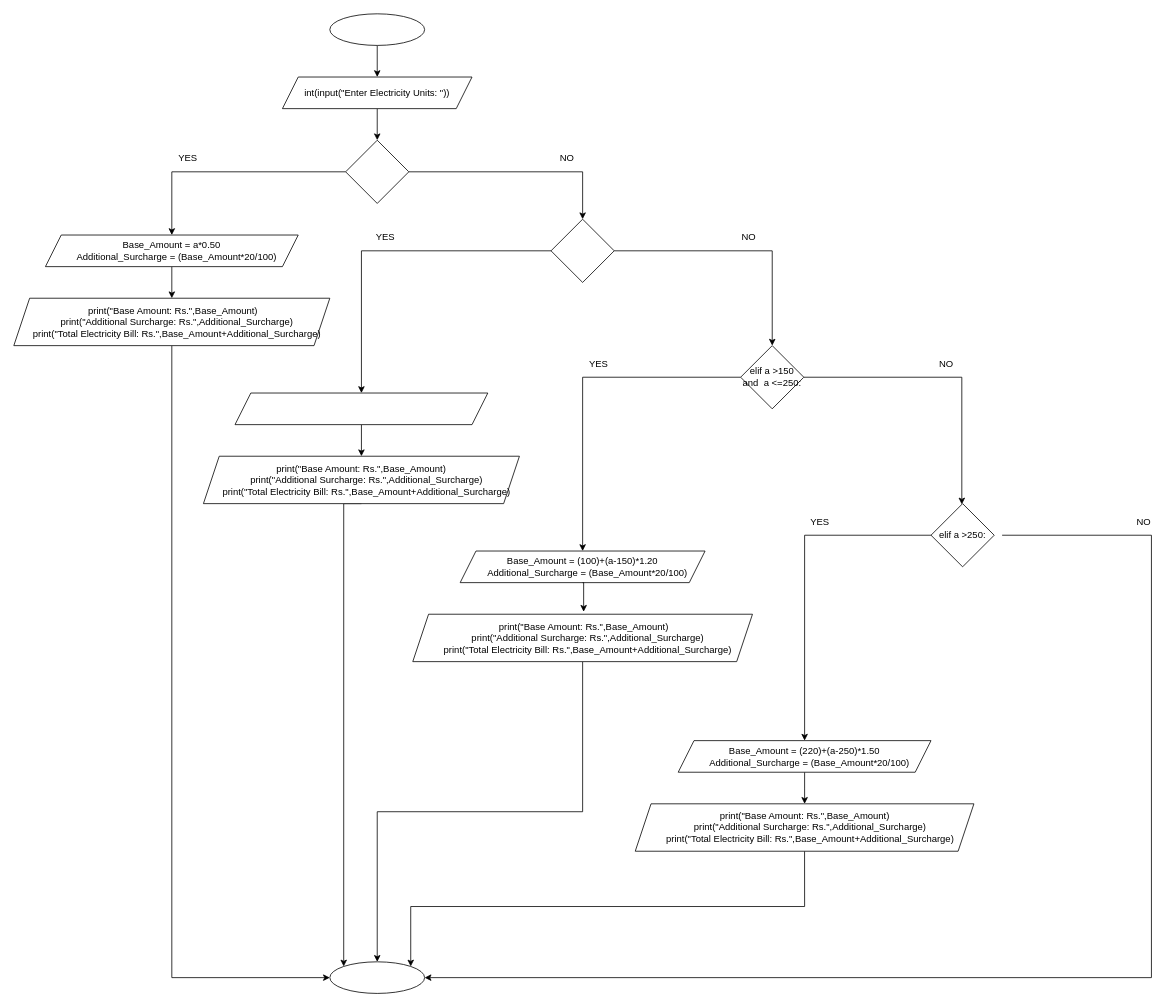
The diagram is 1173 pixels wide and 1007 high, and some of its shapes have lost their labels. Each missing label, with the centre of its shape:
Base_Amount = (25)+(a-50)*0.75 Additional_Surcharge = (Base_Amount*20/100): the point at 361,408
elif a >50 and a <=150:: the point at 582,250
if a <=50:: the point at 377,171
START: the point at 377,29
STOP: the point at 377,977
